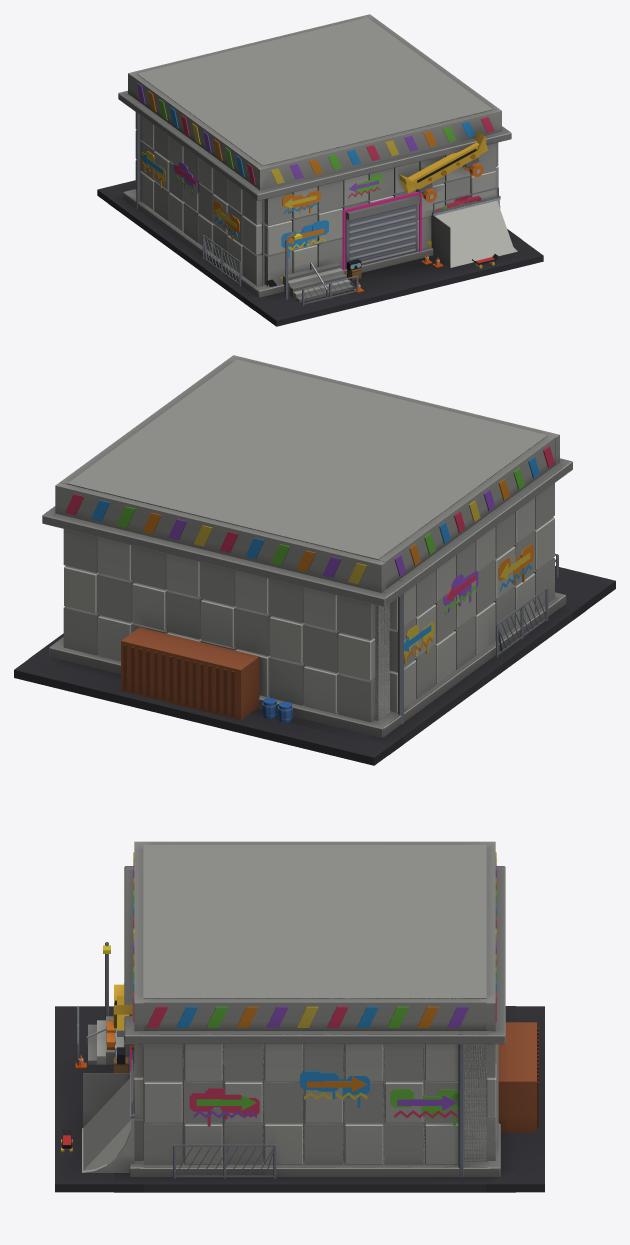
Rendered from CheeseSkaterFloor.fbx.
3 renders of one model, top to bottom at view 1: azimuth 30°, elevation 25°; view 2: azimuth 150°, elevation 25°; view 3: azimuth 270°, elevation 25°, orthographic. The views are drawn at different scales.
Parts seen in each view (by area): view 1: SK_S_All, SK_F_Rings, SK_F_Smooth, SK_F_Quiet, SK_F_Glass, SK_F_Props; view 2: SK_F_Rings, SK_S_All, SK_F_Smooth, SK_F_Quiet; view 3: SK_S_All, SK_F_Rings, SK_F_Smooth, SK_F_Quiet, SK_F_Props.
Part boxes in pixels (x1=…): SK_S_All: x1=112, y1=17, x2=521, y2=310; SK_F_Rings: x1=128, y1=14, x2=517, y2=286; SK_F_Smooth: x1=97, y1=83, x2=543, y2=326; SK_F_Quiet: x1=97, y1=90, x2=543, y2=320; SK_F_Glass: x1=292, y1=192, x2=421, y2=270; SK_F_Props: x1=347, y1=157, x2=498, y2=280; SK_F_Rings: x1=55, y1=355, x2=559, y2=722; SK_S_All: x1=29, y1=359, x2=586, y2=754; SK_F_Smooth: x1=14, y1=446, x2=615, y2=765; SK_F_Quiet: x1=14, y1=458, x2=615, y2=757; SK_S_All: x1=83, y1=844, x2=515, y2=1192; SK_F_Rings: x1=82, y1=841, x2=536, y2=1172; SK_F_Smooth: x1=55, y1=852, x2=544, y2=1192; SK_F_Quiet: x1=55, y1=866, x2=544, y2=1184; SK_F_Props: x1=62, y1=1020, x2=134, y2=1148.
Bounding box in the file's own units: 60 × 20 × 60.
